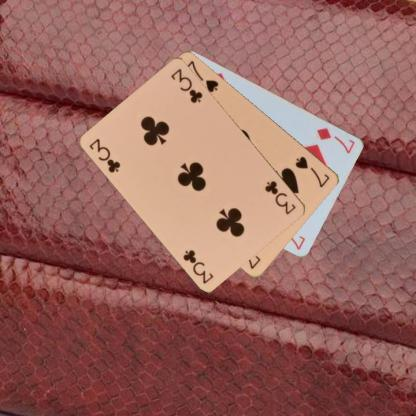3c: (87, 135, 122, 175), (262, 178, 297, 216)
7d: (314, 125, 356, 155)
7s: (293, 154, 332, 189)
